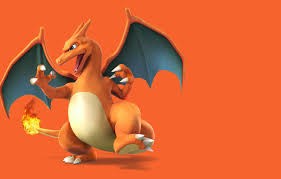charizard: (1, 7, 186, 166)
